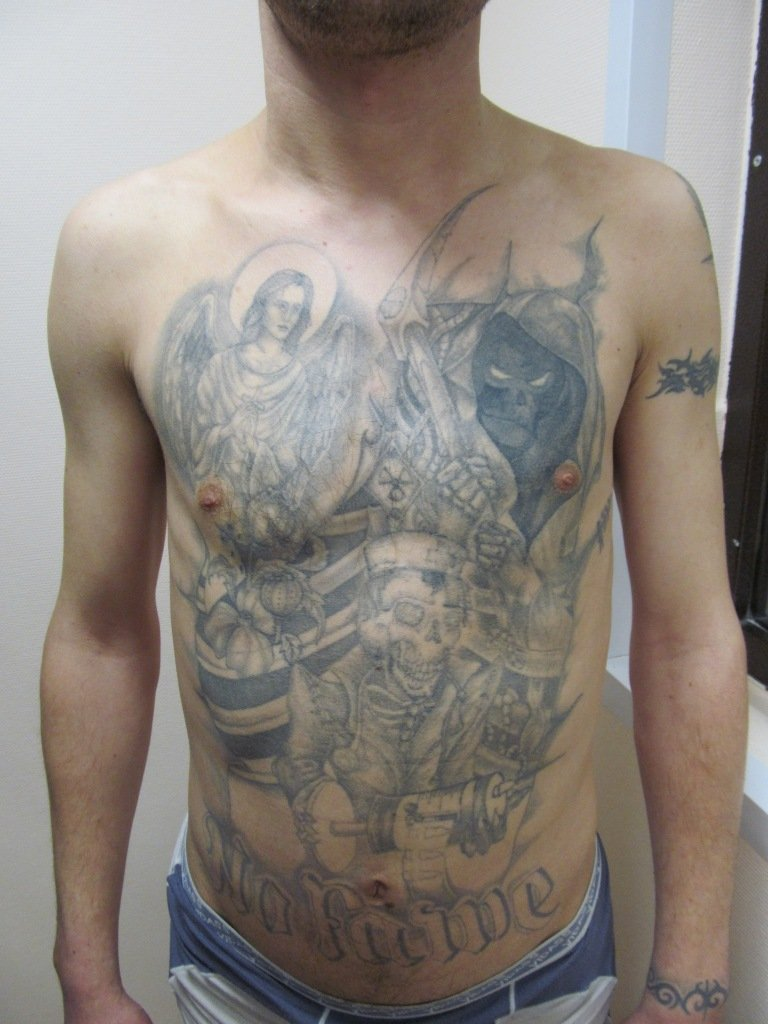tatu1_angel: (146, 243, 372, 576)
tatu3_bukva: (198, 813, 572, 976)
